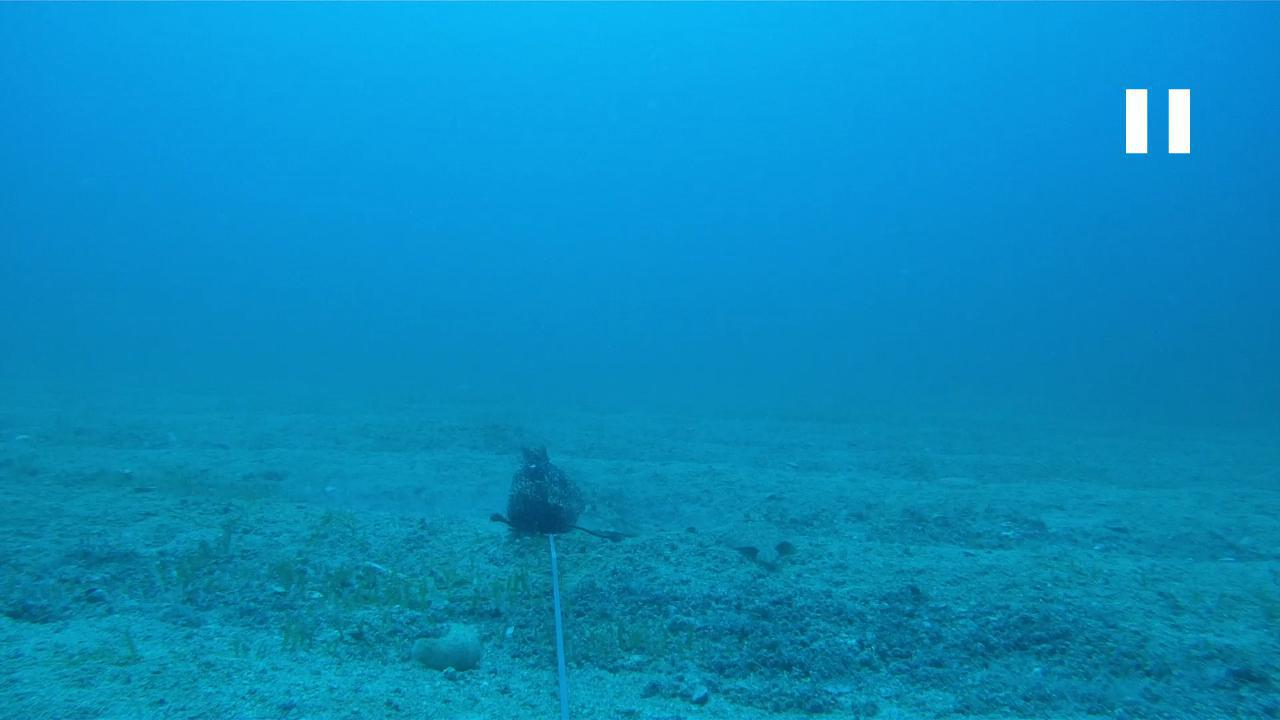bothus: (714, 517, 816, 568), (562, 506, 642, 540)
